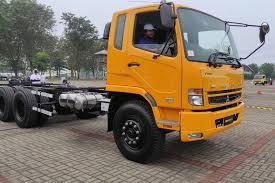truck: (96, 1, 275, 146)
